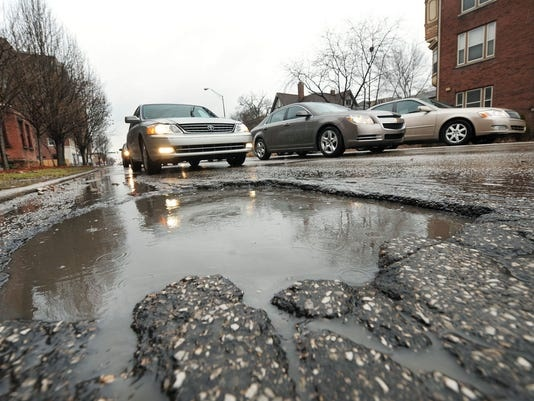pothole: (4, 160, 510, 324)
